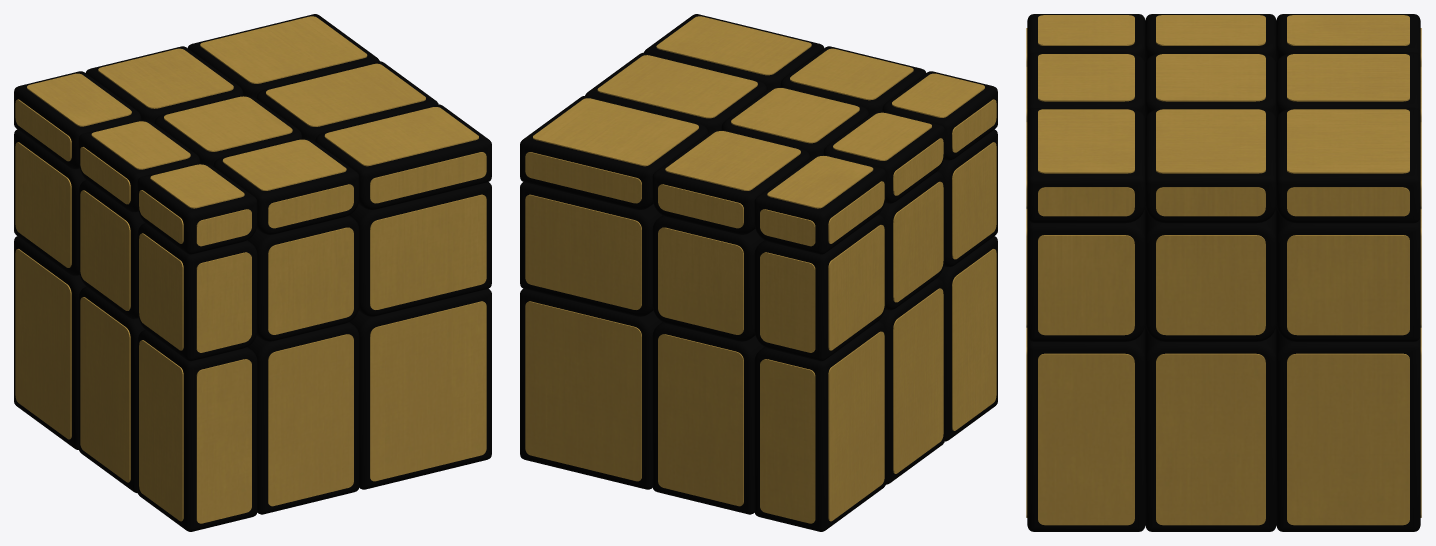
The model's file is rubiksGold.glb.
The picture shows the model from 3 angles, left to right: view 1: azimuth 30°, elevation 25°; view 2: azimuth 150°, elevation 25°; view 3: azimuth 270°, elevation 25°; orthographic projection. The views are drawn at different scales.
Parts seen in each view (by area): view 1: Piece.003, Piece.008, Piece.009, Piece.011, Piece.013, Piece.020, Piece.006, Piece.010, Piece.007, Piece.021, Piece.019, Piece.024 (+7 smaller); view 2: Piece.004, Piece.006, Piece.005, Piece.017, Piece.014, Piece.019, Piece.015, Piece.023, Piece.007, Piece.026, Piece.008, Piece.018 (+7 smaller); view 3: Piece.004, Piece.002, Piece.003, Piece.017, Piece.019, Piece.016, Piece.018, Piece.011, Piece.020, Piece.023, Piece.022, Piece.021 (+3 smaller).
Part boxes in pixels (box(x1,y1,x2,y2)): Piece.003: box(349, 288, 491, 489); Piece.008: box(137, 329, 257, 531); Piece.009: box(247, 322, 359, 514); Piece.011: box(349, 182, 491, 316); Piece.013: box(137, 223, 257, 361); Piece.020: box(315, 104, 491, 209); Piece.006: box(14, 236, 85, 449); Piece.010: box(247, 215, 359, 341); Piece.007: box(78, 286, 144, 493); Piece.021: box(213, 138, 359, 234); Piece.019: box(187, 14, 379, 98); Piece.024: box(137, 163, 257, 254); Piece.004: box(520, 288, 662, 489); Piece.006: box(754, 321, 885, 531); Piece.005: box(652, 322, 764, 514); Piece.017: box(520, 182, 662, 316); Piece.014: box(754, 214, 885, 361); Piece.019: box(520, 96, 708, 209); Piece.015: box(652, 215, 764, 341); Piece.023: box(652, 130, 810, 234); Piece.007: box(879, 278, 944, 484); Piece.026: box(754, 155, 885, 254); Piece.008: box(937, 236, 997, 441); Piece.018: box(585, 52, 767, 132); Piece.004: box(1276, 324, 1421, 531); Piece.002: box(1145, 324, 1276, 531); Piece.003: box(1026, 325, 1145, 531); Piece.017: box(1276, 205, 1421, 341); Piece.019: box(1276, 108, 1421, 223); Piece.016: box(1145, 205, 1276, 341); Piece.018: box(1145, 108, 1276, 223); Piece.011: box(1026, 206, 1145, 341); Piece.020: box(1026, 108, 1145, 223); Piece.023: box(1276, 52, 1421, 121); Piece.022: box(1145, 52, 1276, 119); Piece.021: box(1026, 52, 1145, 121).
Size of the model in its own units: 0.1557 by 0.1557 by 0.1557.
Materials: 2 (1 with a texture image).
